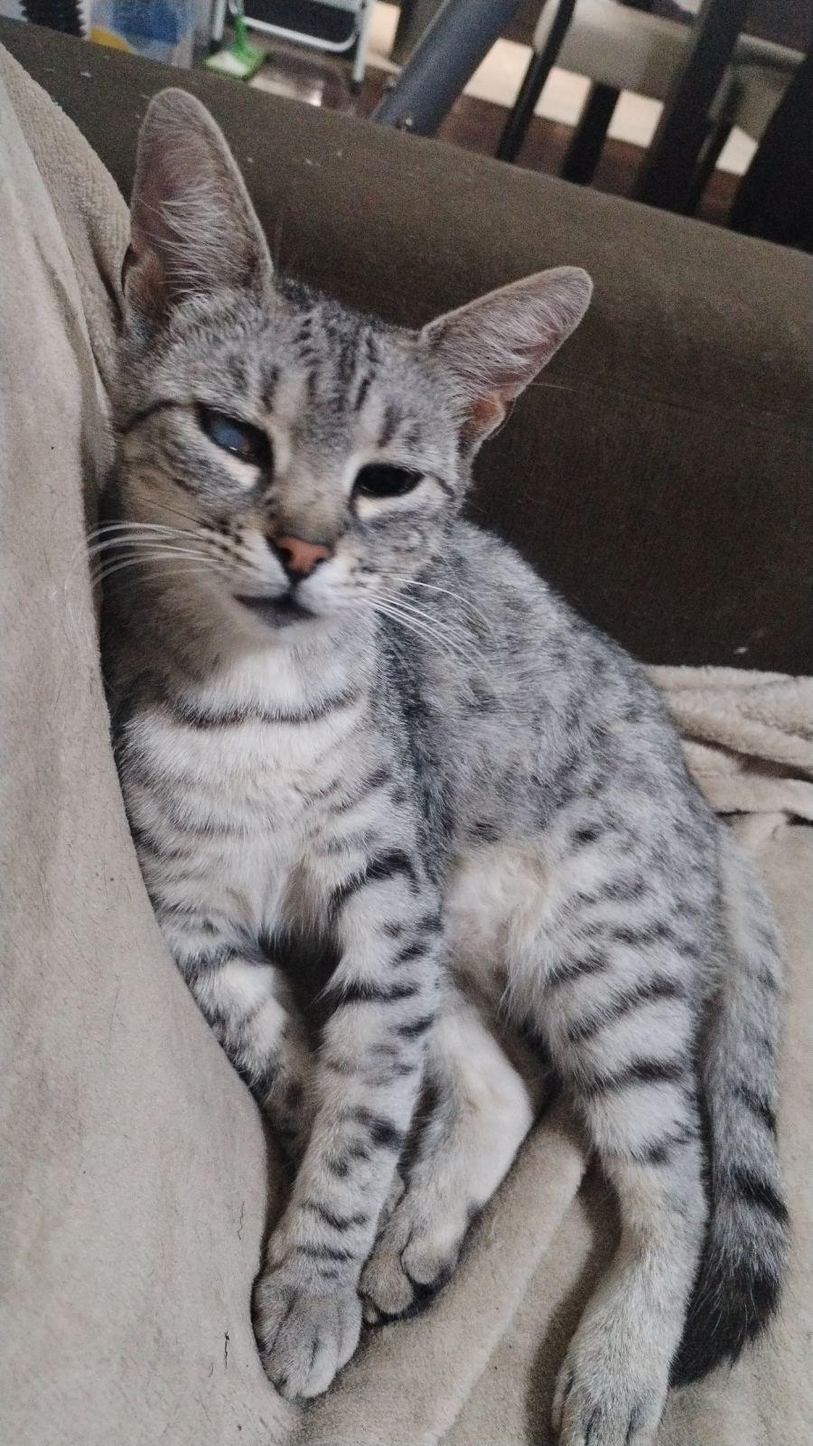macka: (102, 76, 796, 1446)
